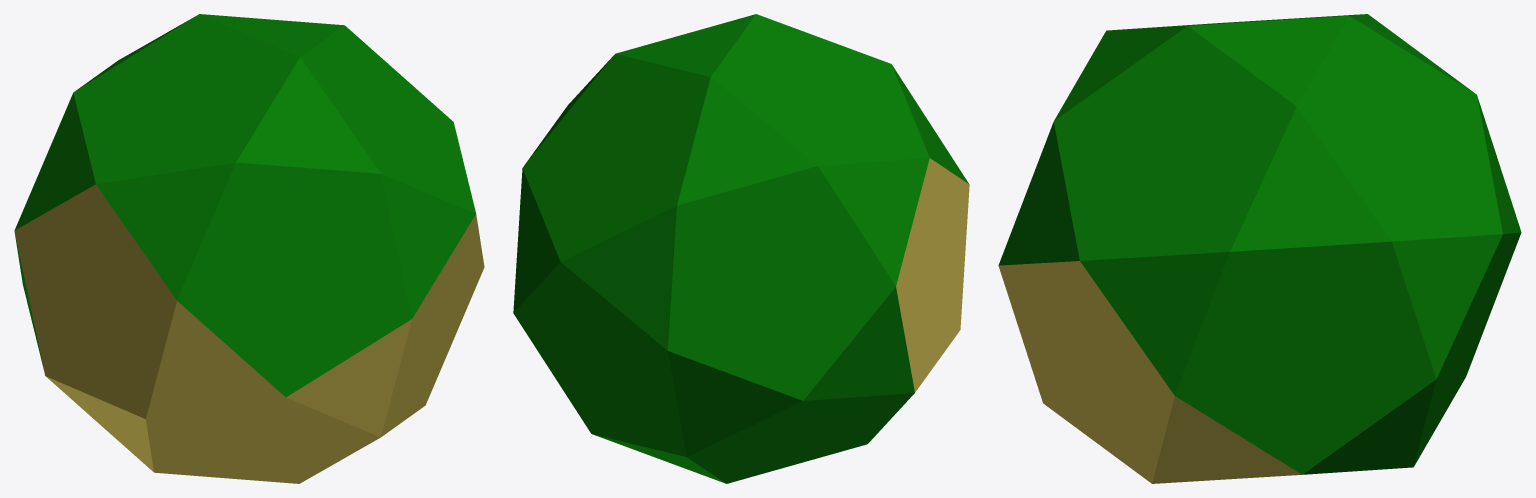
The model's file is Body2.fbx.
3 views of the same model, side by side, from view 1: azimuth 30°, elevation 25°; view 2: azimuth 150°, elevation 25°; view 3: azimuth 270°, elevation 25° (orthographic). The views are drawn at different scales.
Visible parts, largest first — view 1: Icosphere; view 2: Icosphere; view 3: Icosphere.
Boxes of the visible parts, box(x1,y1,x2,y2) form: Icosphere: box(14, 14, 484, 483); Icosphere: box(513, 14, 969, 483); Icosphere: box(998, 14, 1521, 483).
Bounding box in the file's own units: 186 × 192 × 196.
